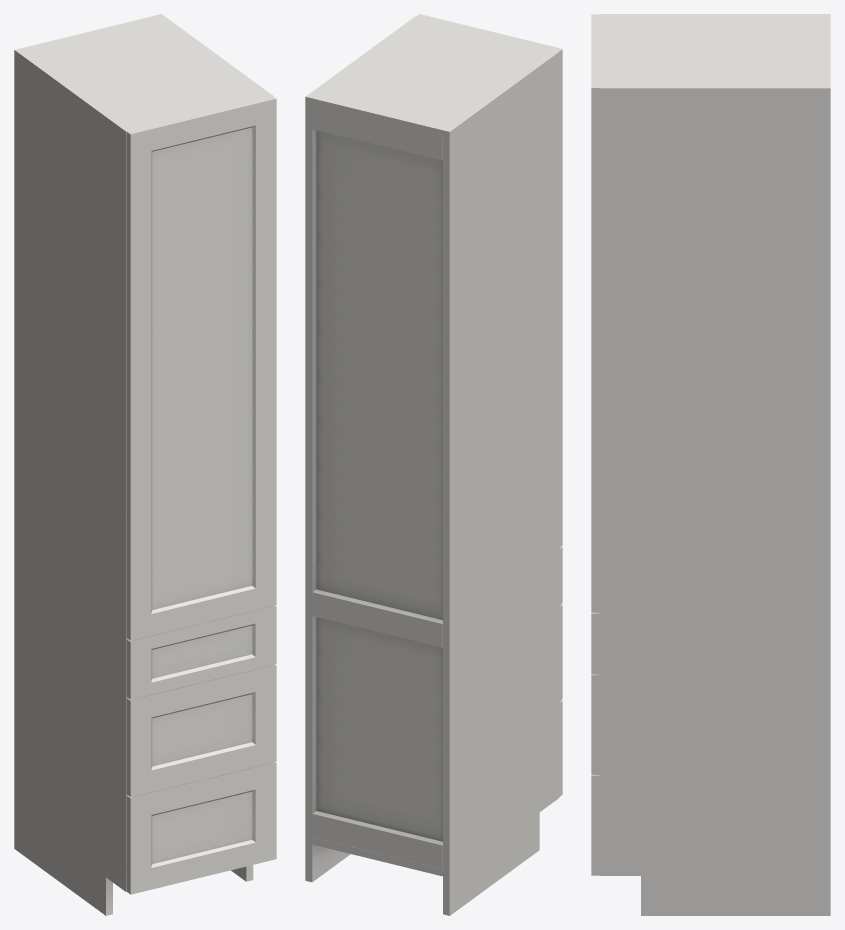
The model's file is vanity-tower-1-door-3-drawer-doors-on.glb.
The picture shows the model from 3 angles, left to right: view 1: azimuth 30°, elevation 25°; view 2: azimuth 150°, elevation 25°; view 3: azimuth 270°, elevation 25°; orthographic projection. The views are drawn at different scales.
Visible parts, largest first — view 1: part_30, part_0; view 2: part_0, part_30; view 3: part_0, part_30.
Boxes of the visible parts, box(x1,y1,x2,y2) form: part_30: box(126, 96, 276, 894); part_0: box(14, 14, 272, 915); part_0: box(305, 16, 559, 915); part_30: box(416, 14, 562, 796); part_0: box(599, 14, 830, 915); part_30: box(591, 14, 599, 875).
Bounding box in the file's own units: 0.4064 × 2.11 × 0.5525.
3 materials, 2 textured.
